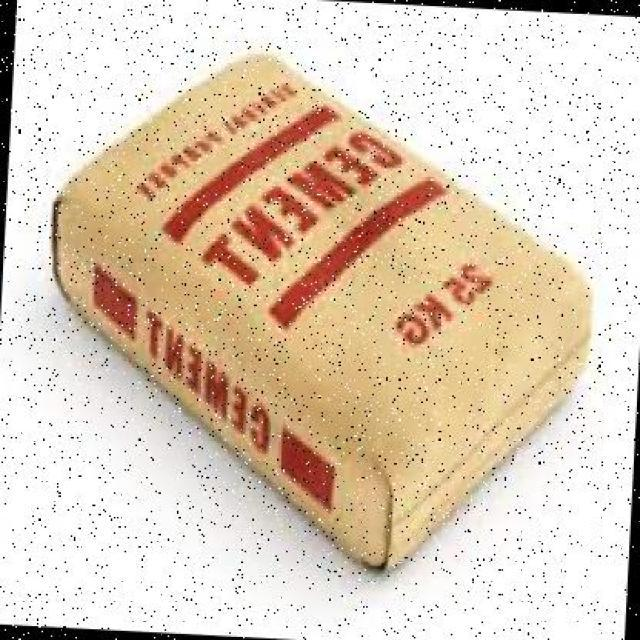gunny_bag: (62, 48, 583, 479)
